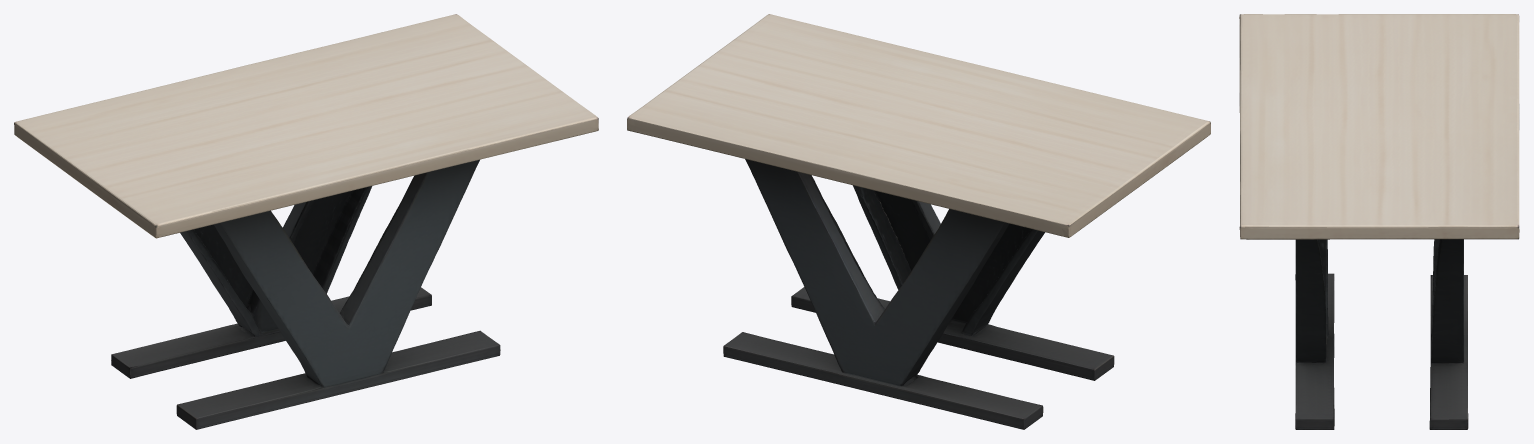
File: mw808c_coffee_table_sonoma_oak_dark.glb
3 renders of one model, left to right at view 1: azimuth 30°, elevation 25°; view 2: azimuth 150°, elevation 25°; view 3: azimuth 270°, elevation 25°, orthographic.
Parts seen in each view (by area): view 1: world; view 2: world; view 3: world.
Part boxes in pixels (<box>): world: <box>14,14,598,429</box>; world: <box>627,14,1210,429</box>; world: <box>1239,14,1519,429</box>.
Size of the model in its own units: 1 by 0.5229 by 0.5569.
Materials: 1 (1 with a texture image).
